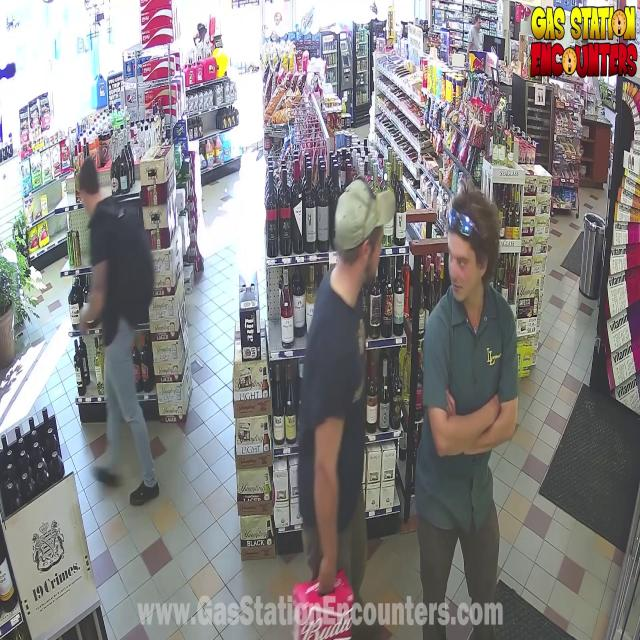Product: (293, 566, 356, 640)
normal: (402, 178, 548, 640), (55, 125, 162, 512)
shoplifting: (258, 170, 395, 640)
